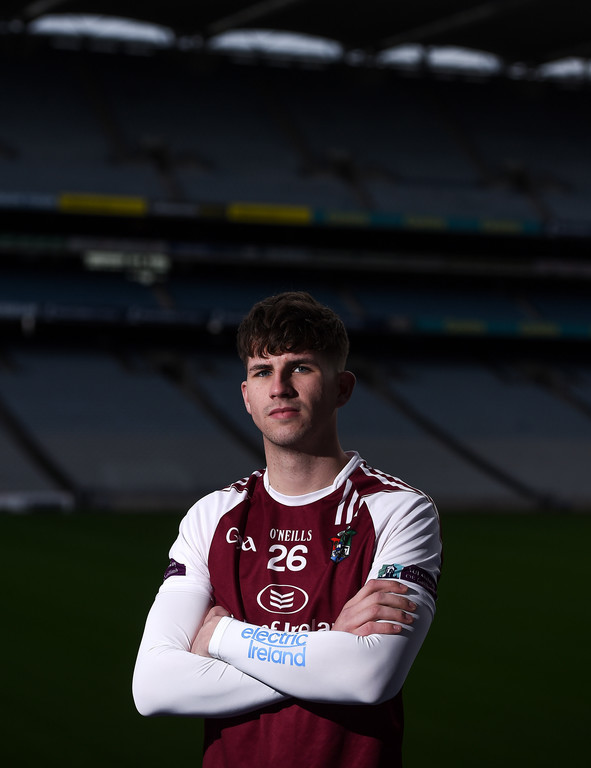player: (177, 292, 445, 743)
